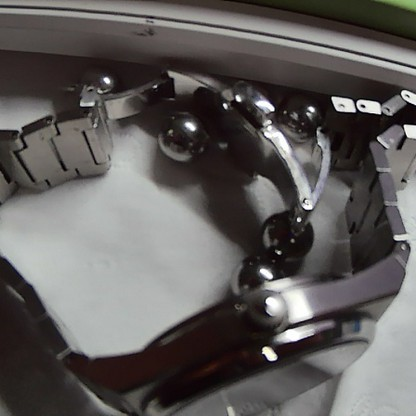ironball: (222, 248, 289, 300), (58, 57, 131, 100), (246, 206, 302, 257), (274, 91, 330, 140), (157, 115, 204, 155)
